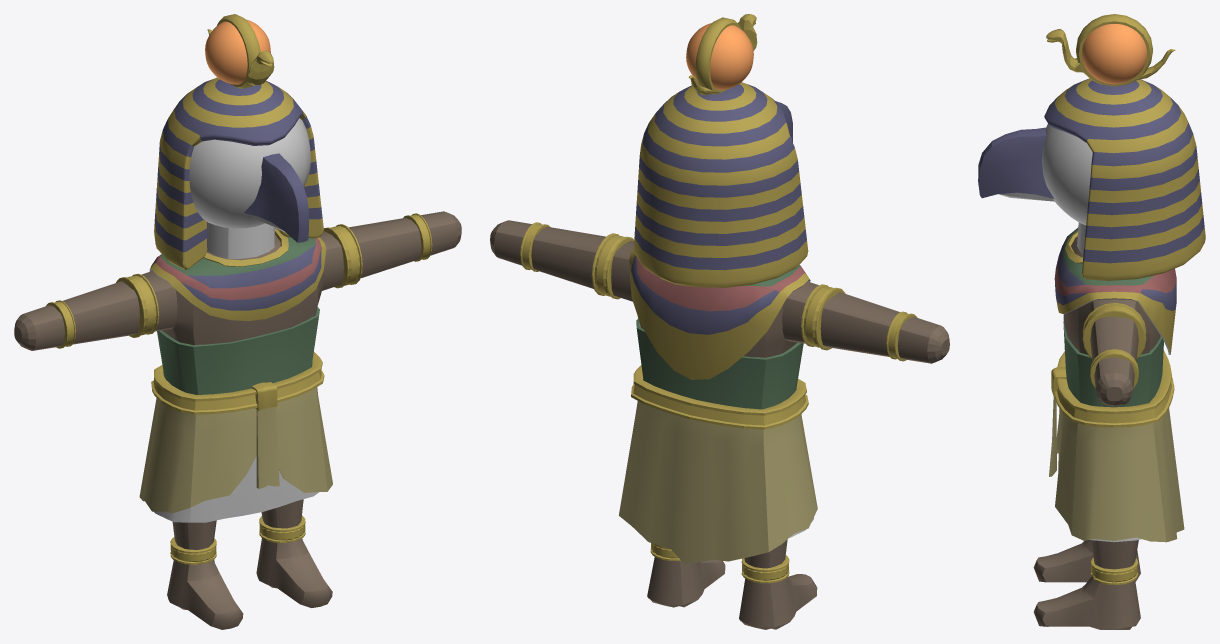
3 renders of one model, left to right at view 1: azimuth 30°, elevation 25°; view 2: azimuth 150°, elevation 25°; view 3: azimuth 270°, elevation 25°, orthographic. The views are drawn at different scales.
Visible parts, largest first — view 1: Karada1; view 2: Karada1; view 3: Karada1.
Part boxes in pixels (box(x1,y1,x2,y2)): Karada1: box(14, 14, 461, 629); Karada1: box(490, 14, 949, 629); Karada1: box(978, 14, 1205, 629).
Bounding box in the file's own units: 6.91 × 8.6 × 3.04.
